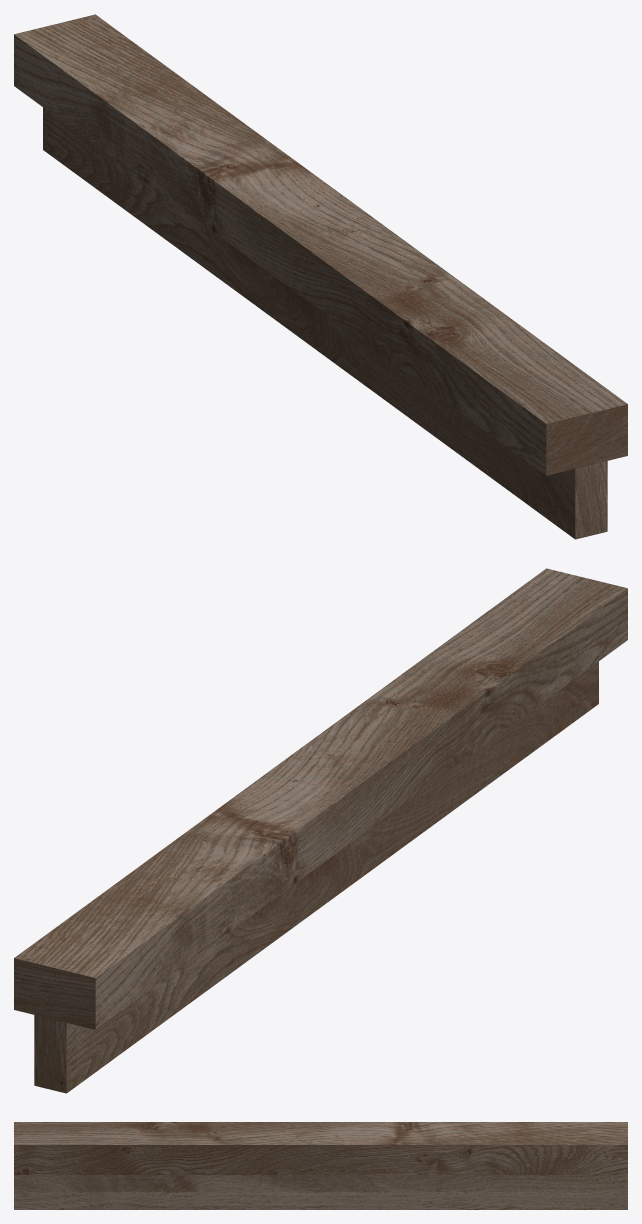
The model's file is SM_Sun_Kak_Dori_B.fbx.
3 renders of one model, top to bottom at view 1: azimuth 30°, elevation 25°; view 2: azimuth 150°, elevation 25°; view 3: azimuth 270°, elevation 25°, orthographic. The views are drawn at different scales.
Parts seen in each view (by area): view 1: SM_Sun_Kak_Dori_B; view 2: SM_Sun_Kak_Dori_B; view 3: SM_Sun_Kak_Dori_B.
Boxes of the visible parts, <box> form: SM_Sun_Kak_Dori_B: <box>14,14,627,539</box>; SM_Sun_Kak_Dori_B: <box>14,568,627,1093</box>; SM_Sun_Kak_Dori_B: <box>14,1122,627,1209</box>.
Size of the model in its own units: 38 by 54.59 by 430.
